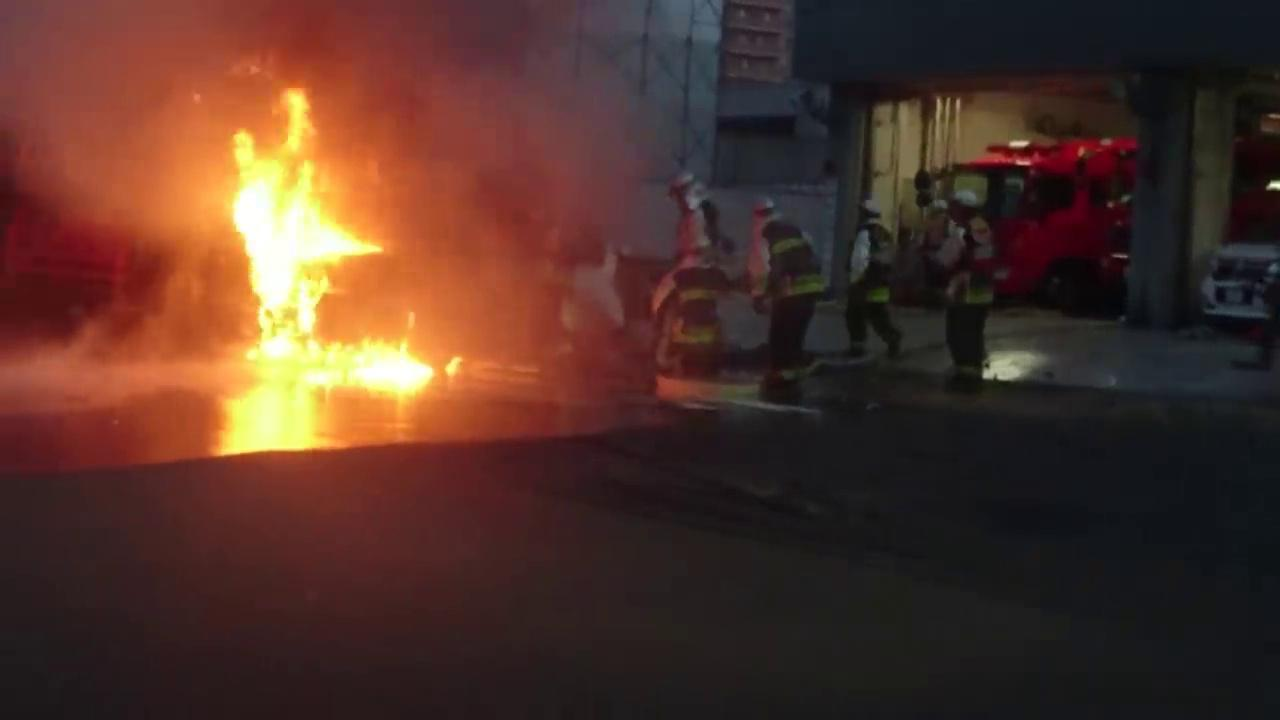Fire: (239, 85, 463, 389)
